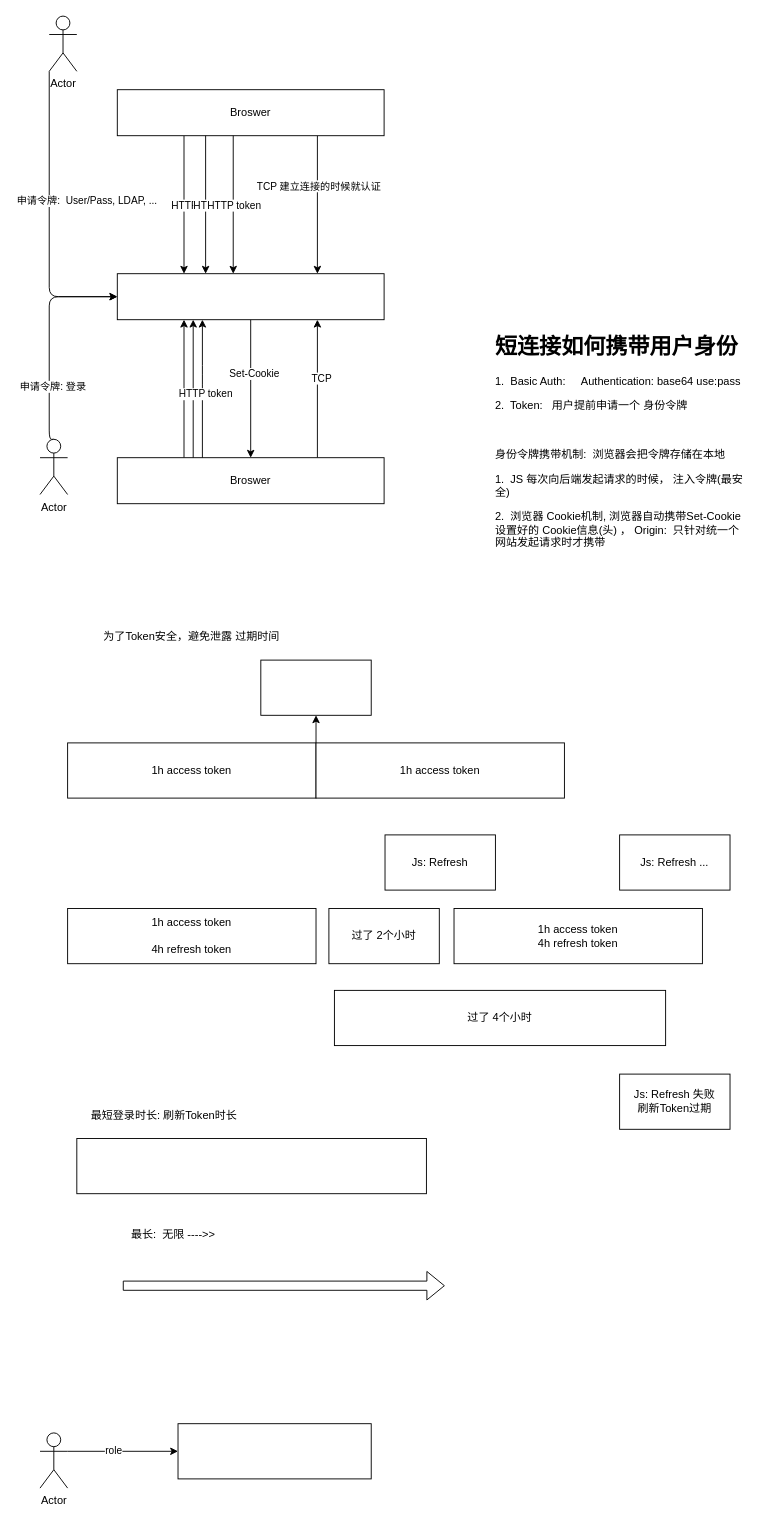
The diagram is 764 pixels wide and 1524 high, and some of its shapes have lost their labels. The centre of each missing label's shape, as x and y in pixels:
"API" belongs at point (250, 296).
"Login" belongs at point (315, 687).
"接口(required('admin'))" belongs at point (274, 1451).
